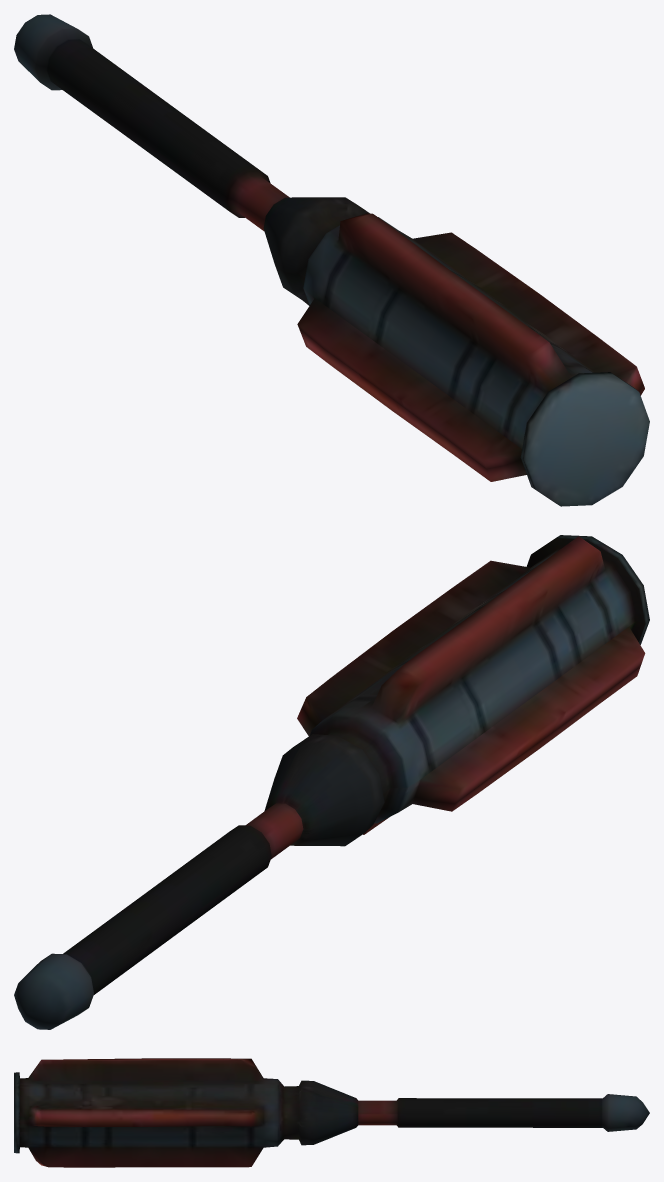
Rendered from mace.glb.
The picture shows the model from 3 angles, top to bottom: view 1: azimuth 30°, elevation 25°; view 2: azimuth 150°, elevation 25°; view 3: azimuth 270°, elevation 25°; orthographic projection. The views are drawn at different scales.
Visible parts, largest first — view 1: mace-204; view 2: mace-204; view 3: mace-204.
Part boxes in pixels (x1=…): mace-204: x1=14, y1=14, x2=649, y2=506; mace-204: x1=14, y1=535, x2=649, y2=1029; mace-204: x1=14, y1=1058, x2=649, y2=1167.
Bounding box in the file's own units: 0.1104 × 0.1095 × 0.65.
1 material, 1 textured.
